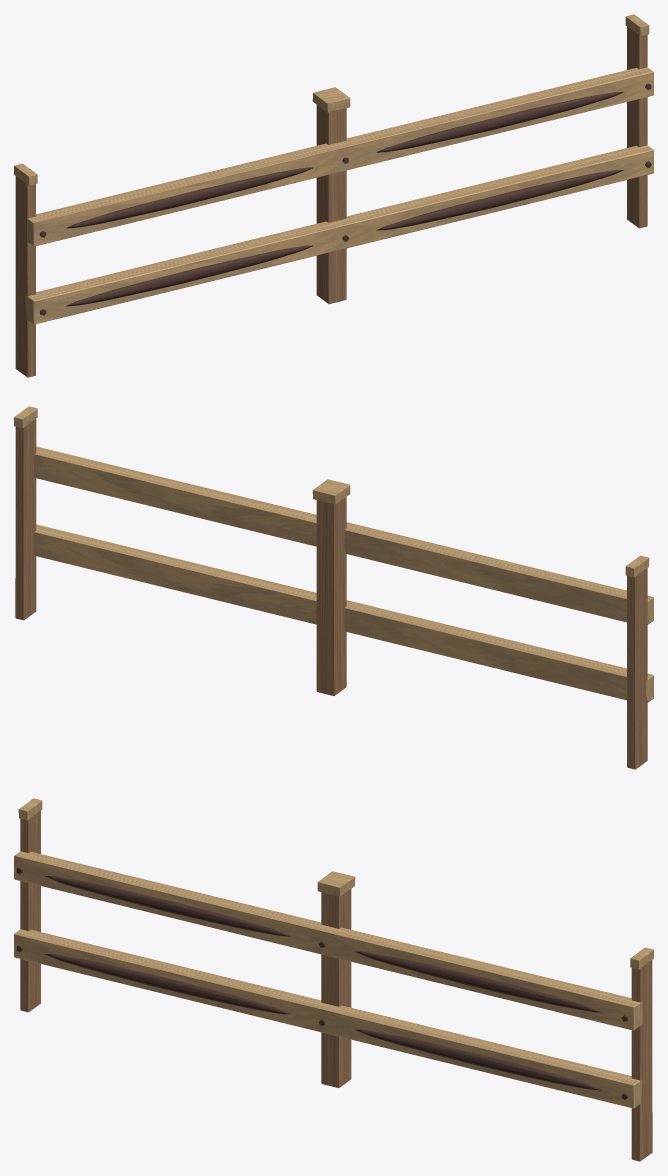
The model's file is fence.glb.
3 views of the same model, one above another, from view 1: azimuth 30°, elevation 25°; view 2: azimuth 150°, elevation 25°; view 3: azimuth 330°, elevation 25° (orthographic).
Visible parts, largest first — view 1: fence; view 2: fence; view 3: fence.
Part boxes in pixels (x1=…): fence: x1=14, y1=14, x2=653, y2=377; fence: x1=14, y1=406, x2=653, y2=769; fence: x1=14, y1=798, x2=653, y2=1161.
Size of the model in its own units: 4 by 1.25 by 0.2544.
1 material, 1 textured.
